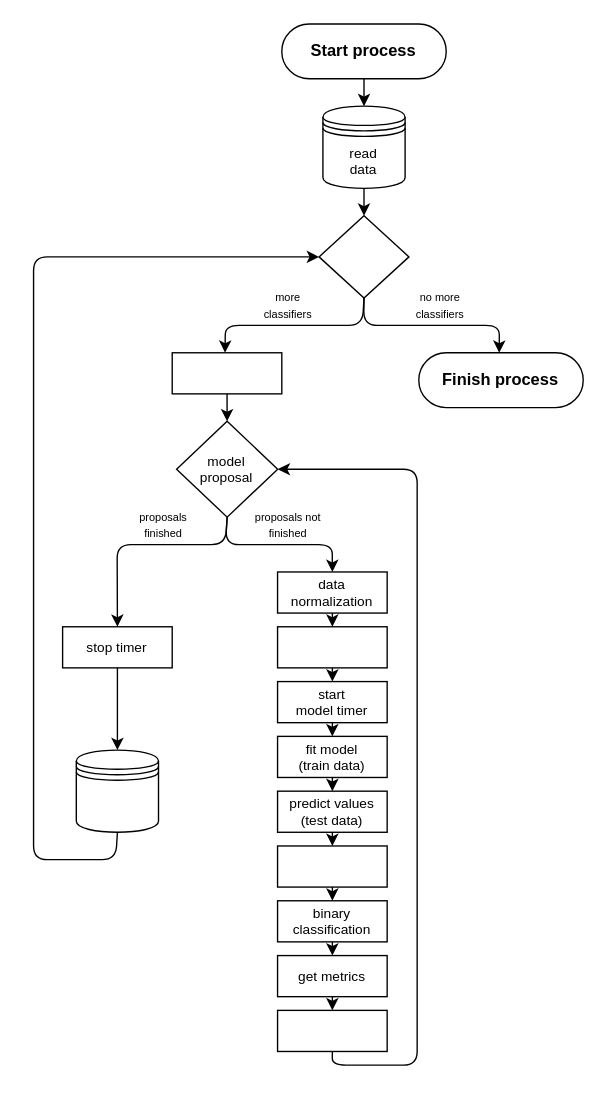
The diagram is 608 pixels wide and 1100 high, and some of its shapes have lost their labels. The centre of each missing label's shape, as x and y in pixels:
classifier: (363,256)
select threshold: (331,866)
split data: train/test: (331,646)
start timer: (226,372)
stop model timer: (331,1030)
write results: (117,790)
